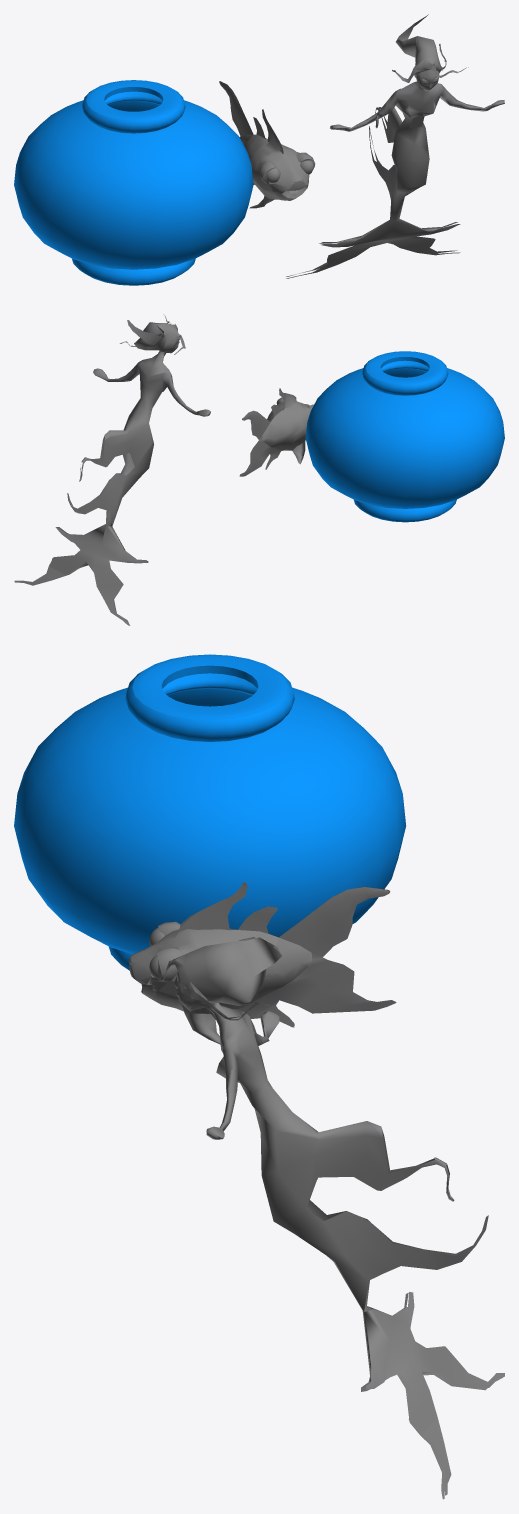
Rendered from Fish Props.obj.
3 renders of one model, top to bottom at view 1: azimuth 30°, elevation 25°; view 2: azimuth 150°, elevation 25°; view 3: azimuth 270°, elevation 25°, orthographic. The views are drawn at different scales.
Visible parts, largest first — view 1: Bowl, MermaidMesh, FishMesh; view 2: Bowl, MermaidMesh, FishMesh; view 3: Bowl, MermaidMesh, FishMesh.
Boxes of the visible parts, bbox=[...] form: Bowl: bbox=[14, 80, 253, 285]; MermaidMesh: bbox=[286, 14, 504, 278]; FishMesh: bbox=[219, 81, 315, 208]; Bowl: bbox=[305, 351, 504, 522]; MermaidMesh: bbox=[14, 314, 210, 625]; FishMesh: bbox=[239, 388, 313, 476]; Bowl: bbox=[14, 654, 406, 970]; MermaidMesh: bbox=[139, 937, 504, 1499]; FishMesh: bbox=[129, 882, 396, 1044].
Size of the model in its own units: 216 by 125 by 112.
